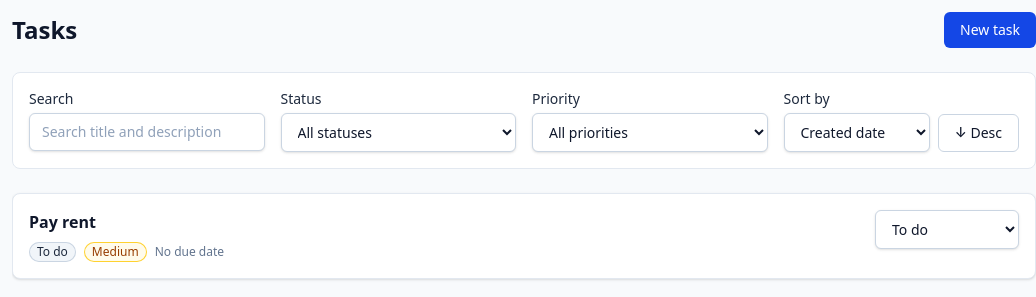
Scenario: TasksScreen › updates the badge after a status change without a reload (AC-EDIT-6)
Check: the list item "Pay rent" is shown, box [12,193,1035,279]
Check: the text "To do" is shown, box [29,242,76,262]
Select "Done" in the dropdown named "Status for Pay rent". click: x=947, y=230
box: [875,210,1019,249]
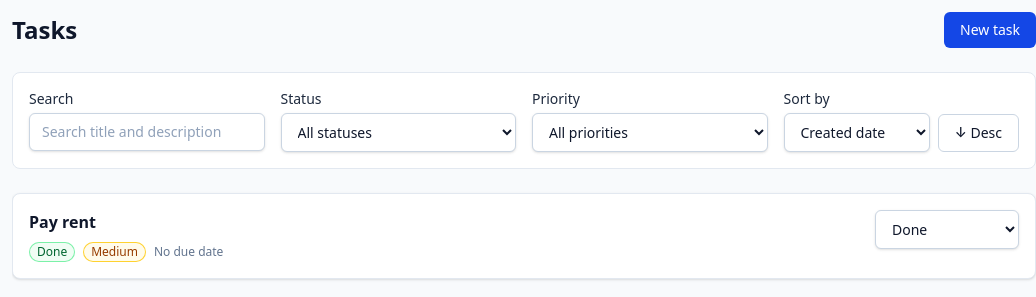
Check: the text "Done" is shown, box [29,242,75,262]
